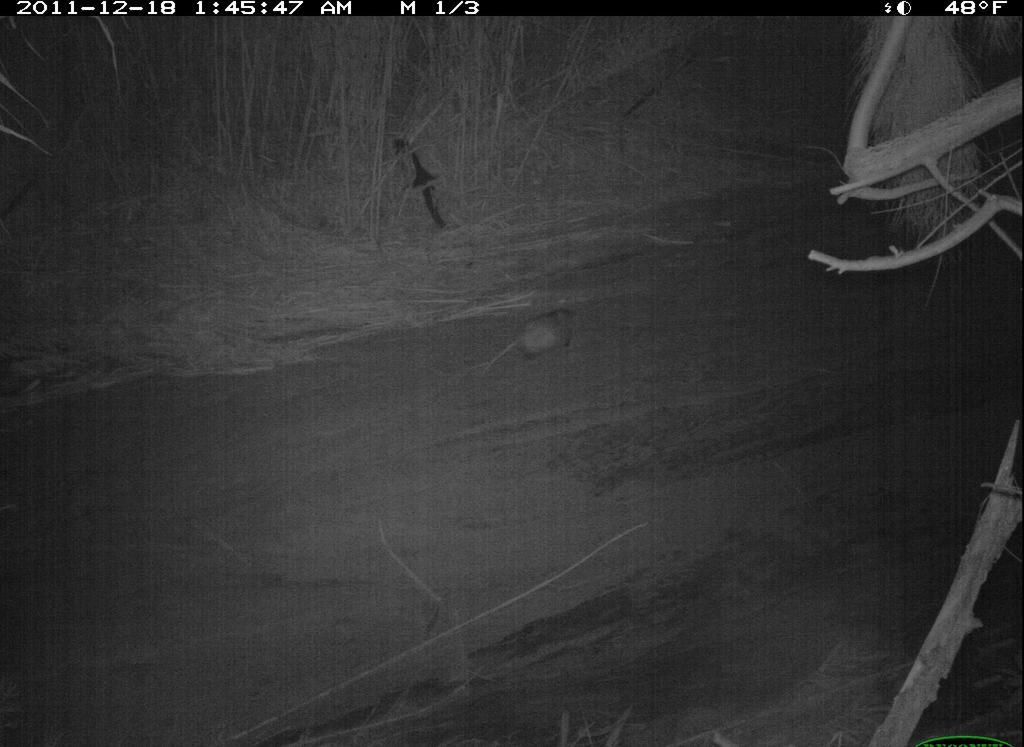opossum: (475, 301, 587, 385)
